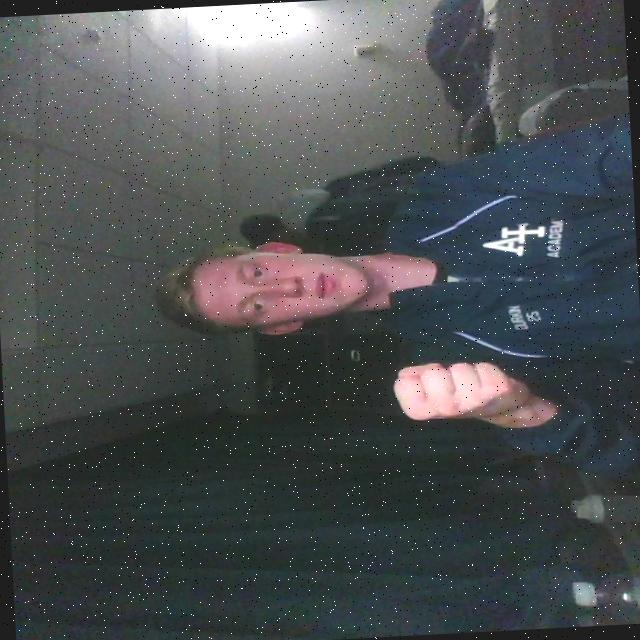rock: (387, 352, 551, 434)
